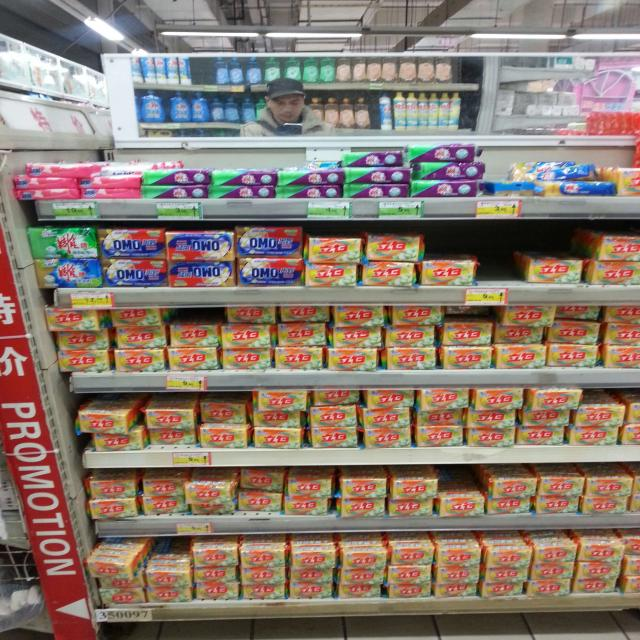empty: (476, 221, 523, 281)
